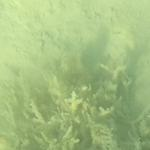dead: (2, 3, 147, 146)
